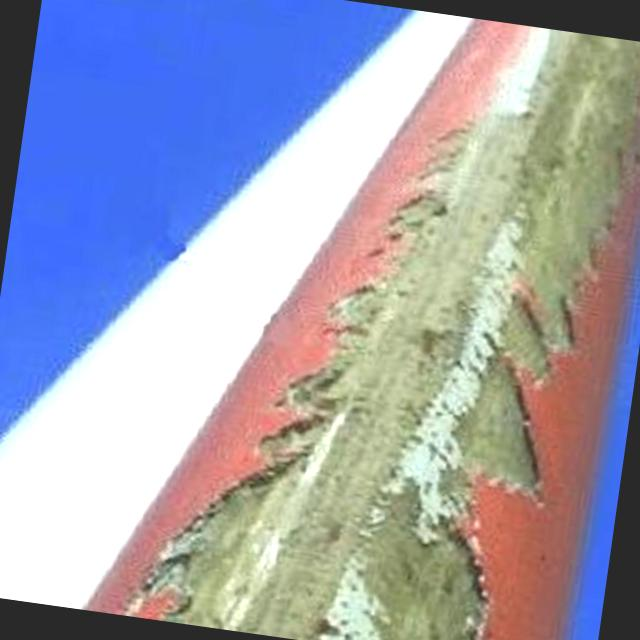corrosion: (132, 295, 563, 640), (347, 9, 640, 348)
